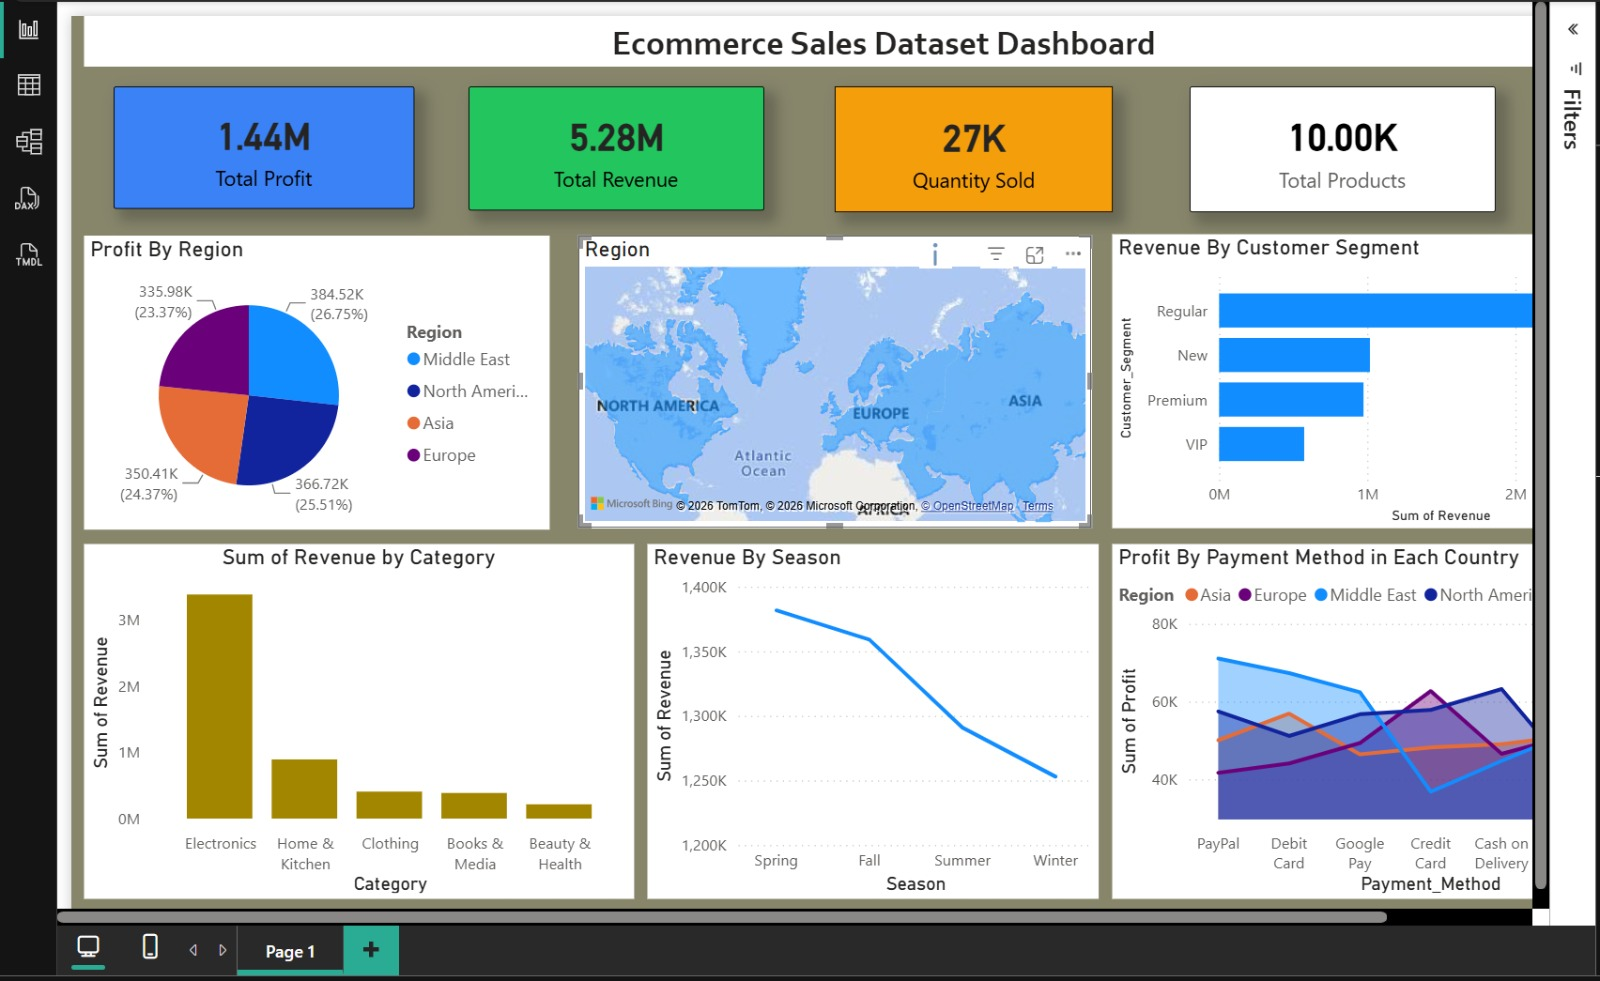

Layout of this report page (visuals, bound fields, positions):
{"tool":"powerbi","page":{"name":"Page 1","canvas":[1280,720],"ordinal":0},"visuals":[{"type":"textbox","box":[10.1,0,1269.5,40.2],"z":0},{"type":"clusteredColumnChart","fields":{"Category":["ecommerce_sales_dataset.Category"],"Y":["Sum(ecommerce_sales_dataset.Revenue)"]},"box":[9.7,416.9,433.8,280.3],"z":1000},{"type":"card","fields":{"Values":["Sum(ecommerce_sales_dataset.Profit)"]},"box":[33.1,55.2,237.4,96.6],"z":2000},{"type":"card","fields":{"Values":["Sum(ecommerce_sales_dataset.Revenue)"]},"box":[313.3,55.2,233.3,98],"z":3000},{"type":"pieChart","title":"Profit By Region","fields":{"Category":["ecommerce_sales_dataset.Region"],"Y":["Sum(ecommerce_sales_dataset.Profit)"]},"box":[9.7,172.8,367.3,232],"z":4000},{"type":"filledMap","fields":{"Category":["ecommerce_sales_dataset.Region"]},"box":[400,172.8,404.8,230.8],"z":5000},{"type":"card","fields":{"Values":["Sum(ecommerce_sales_dataset.Quantity)"]},"box":[601.8,55.2,219.5,99.4],"z":6000},{"type":"card","fields":{"Values":["CountNonNull(ecommerce_sales_dataset.Product_Name)"]},"box":[882,55.2,241.6,99.4],"z":7000},{"type":"lineChart","title":"Revenue By Season","fields":{"Category":["ecommerce_sales_dataset.Season"],"Y":["Sum(ecommerce_sales_dataset.Revenue)"]},"box":[454.1,416.9,356.1,280.2],"z":8000},{"type":"barChart","title":"Revenue By Customer Segment","fields":{"Category":["ecommerce_sales_dataset.Customer_Segment"],"Y":["Sum(ecommerce_sales_dataset.Revenue)"]},"box":[821.3,172.5,448.6,231.9],"z":9000},{"type":"areaChart","title":"Profit By Payment Method in Each Country","fields":{"Category":["ecommerce_sales_dataset.Payment_Method"],"Series":["ecommerce_sales_dataset.Region"],"Y":["Sum(ecommerce_sales_dataset.Profit)"]},"box":[821,417,449,280],"z":10000}]}

Visuals, with their boxes in screenshot pixels (x1, y1, x2, y2):
textbox: <box>0,8,1552,60</box>
clusteredColumnChart - ecommerce_sales_dataset.Category x Sum(ecommerce_sales_dataset.Revenue): <box>0,541,483,899</box>
card - Sum(ecommerce_sales_dataset.Profit): <box>0,79,262,202</box>
card - Sum(ecommerce_sales_dataset.Revenue): <box>317,79,615,204</box>
"Profit By Region" pieChart: <box>0,229,398,526</box>
filledMap - ecommerce_sales_dataset.Region: <box>428,229,945,524</box>
card - Sum(ecommerce_sales_dataset.Quantity): <box>686,79,966,206</box>
card - CountNonNull(ecommerce_sales_dataset.Product_Name): <box>1044,79,1353,206</box>
"Revenue By Season" lineChart: <box>497,541,952,899</box>
"Revenue By Customer Segment" barChart: <box>966,229,1540,525</box>
"Profit By Payment Method in Each Country" areaChart: <box>966,541,1540,899</box>
